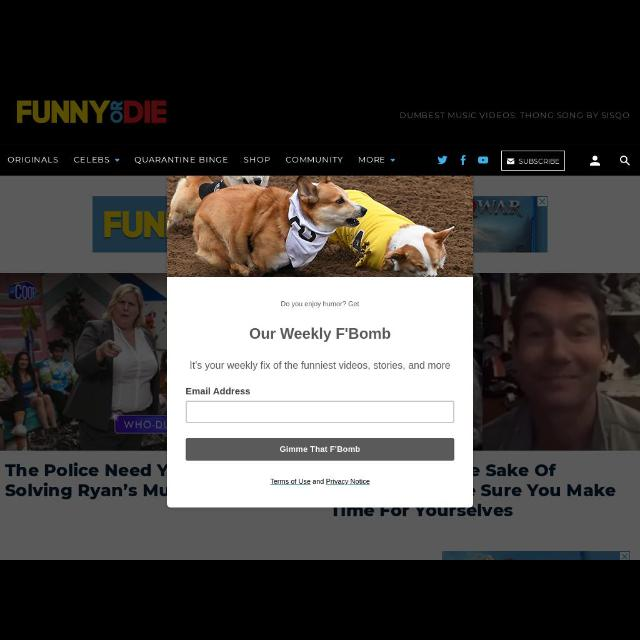icon: (588, 154, 602, 168), (618, 154, 632, 168), (476, 154, 490, 166), (435, 153, 449, 165), (458, 154, 468, 166), (507, 157, 515, 165), (389, 157, 397, 165), (114, 157, 120, 165)
image: (168, 176, 472, 276), (15, 96, 172, 125)
input: (184, 400, 456, 424)
link: (327, 478, 371, 486), (270, 478, 312, 486)
spinner: (70, 150, 124, 168), (354, 152, 402, 168)
text: (190, 358, 452, 374), (398, 110, 630, 120), (247, 326, 391, 342), (270, 477, 372, 488), (133, 155, 230, 165), (278, 444, 362, 454), (186, 386, 252, 396), (280, 300, 360, 308), (285, 156, 343, 166), (7, 156, 59, 167), (357, 154, 385, 166), (74, 155, 110, 163), (520, 158, 560, 164), (243, 156, 270, 164)
textbutton: (186, 437, 454, 461), (500, 150, 566, 172)
toolbar: (1, 147, 639, 176)
